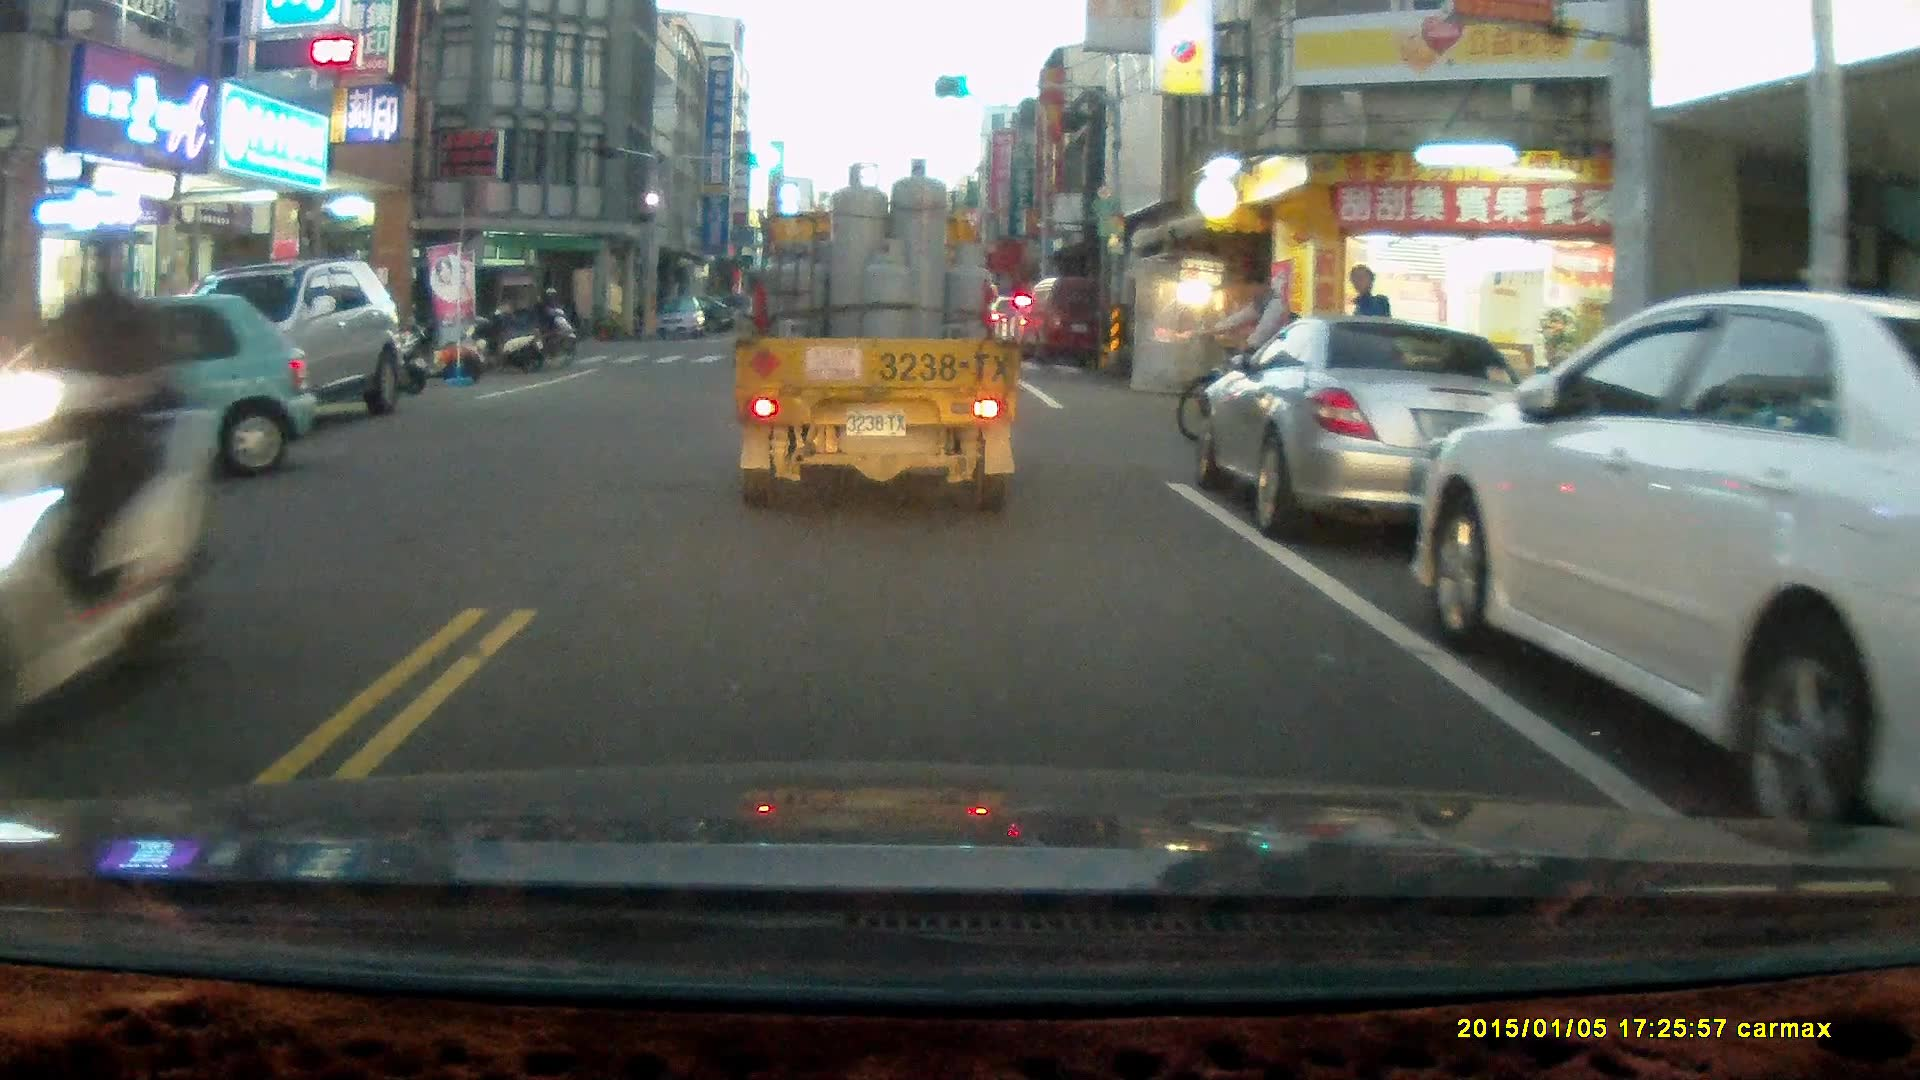rider: (0, 225, 216, 749), (1178, 271, 1339, 452), (517, 284, 580, 358)
vehicle: (1414, 283, 1920, 815), (733, 161, 1024, 516), (1199, 319, 1562, 539), (1, 292, 314, 485), (149, 257, 404, 432), (333, 261, 542, 365), (1024, 272, 1127, 368), (655, 296, 709, 342)
